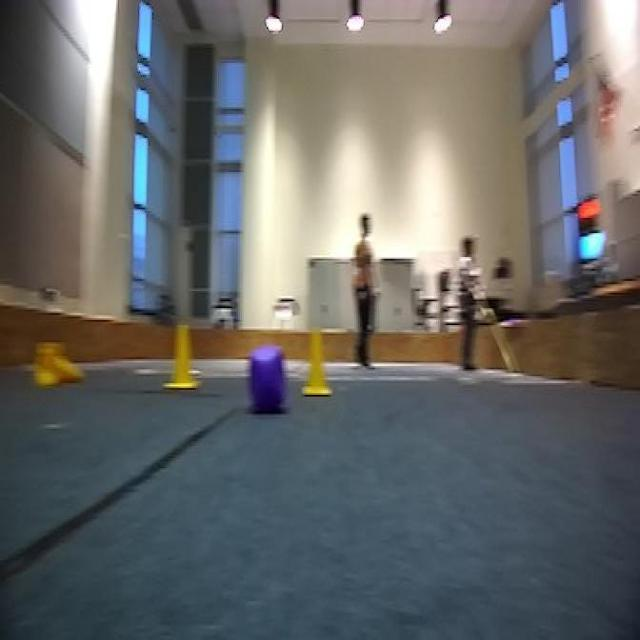frc_cone: (160, 322, 203, 392), (33, 337, 81, 390), (302, 331, 331, 398)
frc_cube: (248, 345, 288, 412)
